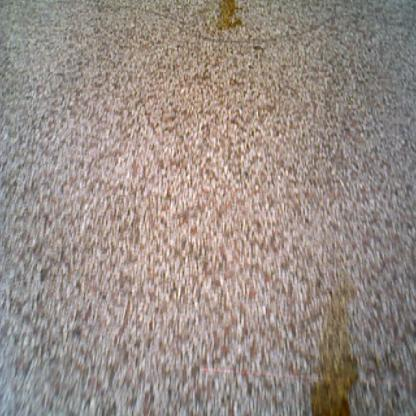liquid: (308, 282, 359, 416), (213, 1, 243, 32)
